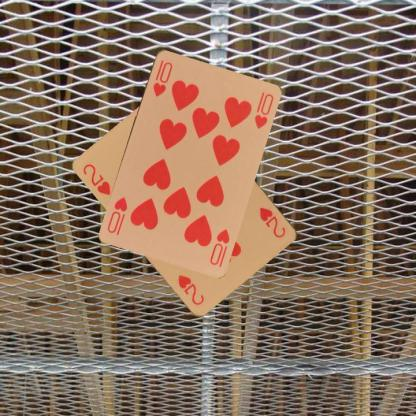10h: (150, 57, 174, 98), (207, 226, 231, 266)
2h: (80, 160, 112, 196), (257, 205, 288, 239)
